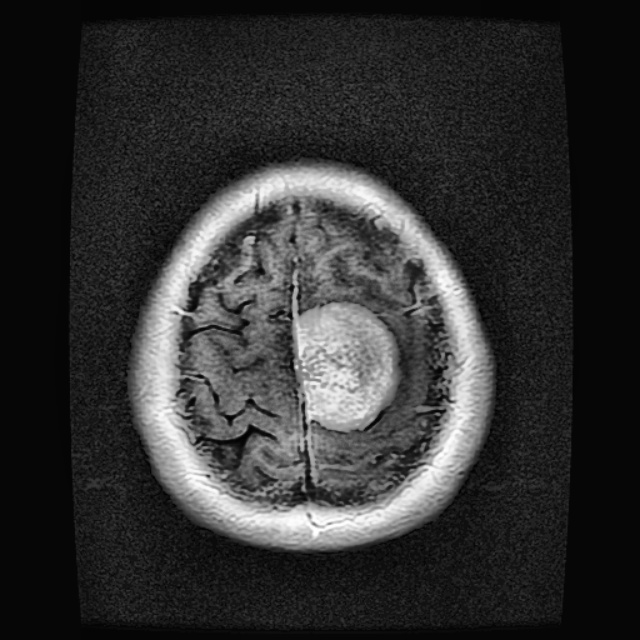Pituitary: (294, 302, 397, 427)
